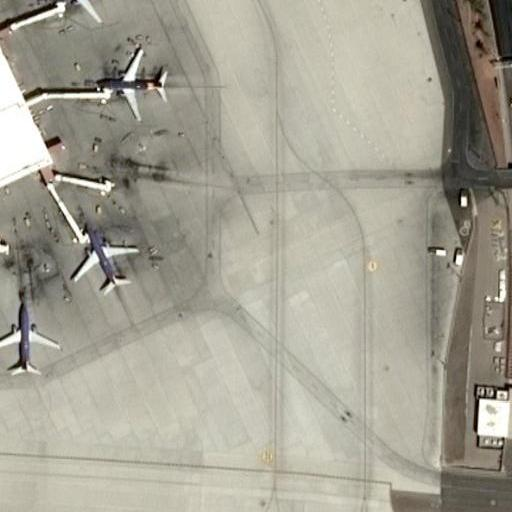Aircraft: (94, 45, 169, 120), (70, 220, 140, 291), (0, 302, 64, 377), (50, 0, 121, 23)
